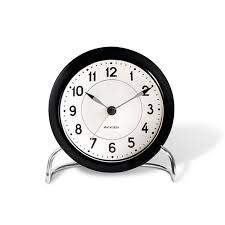alarm_clock: (43, 43, 175, 182), (48, 43, 175, 182)
